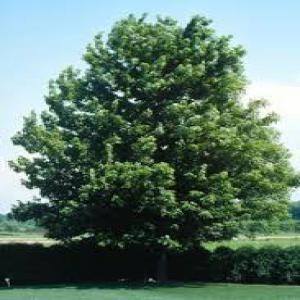Tree: (5, 12, 295, 281)
